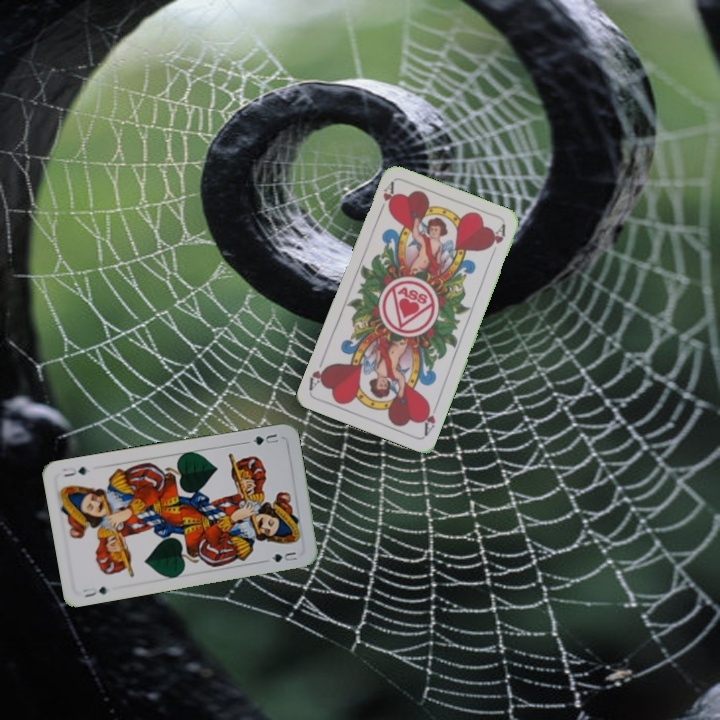GU: (249, 430, 281, 448), (79, 582, 110, 600)
HA: (418, 398, 441, 438), (375, 178, 398, 217)
